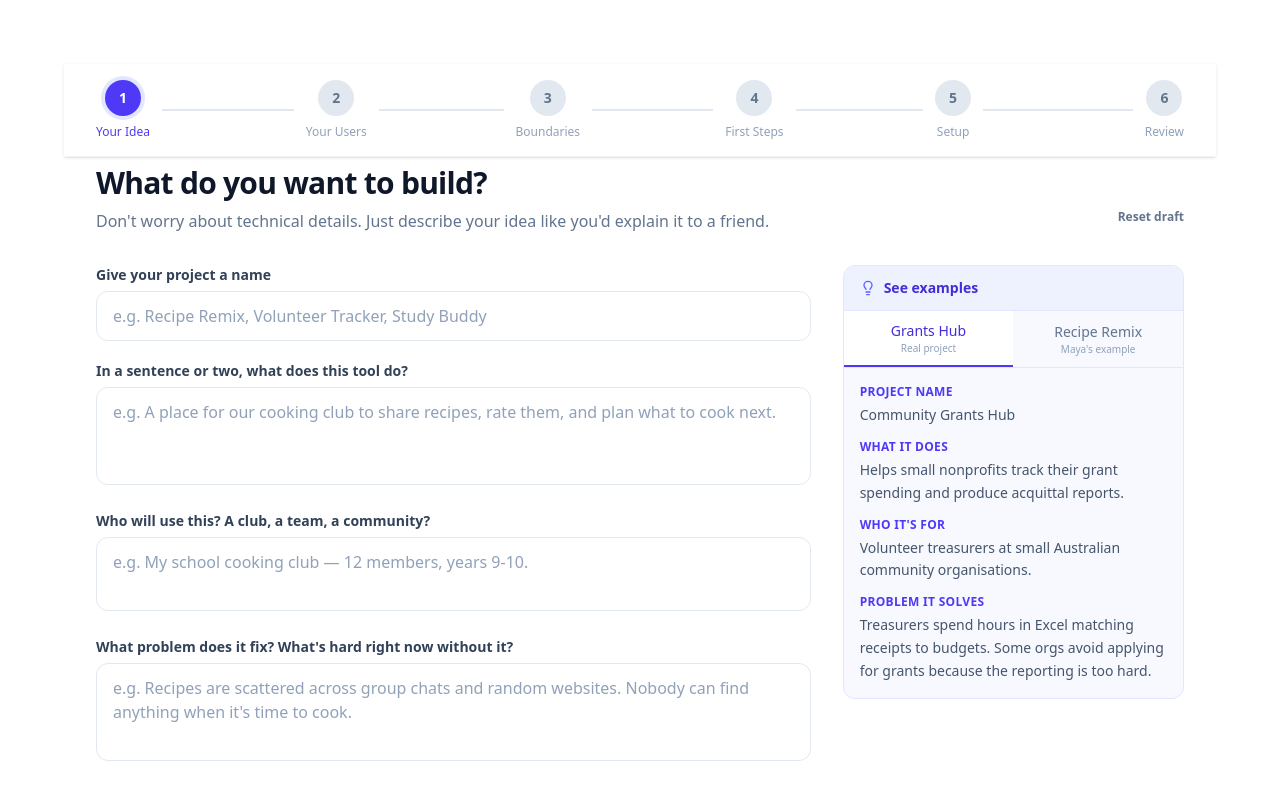
Test case: Widget › persists and resets a draft
Type "River Pantry" into the field labelled "Give your project a name" at (453, 316), box [96,291,811,341]
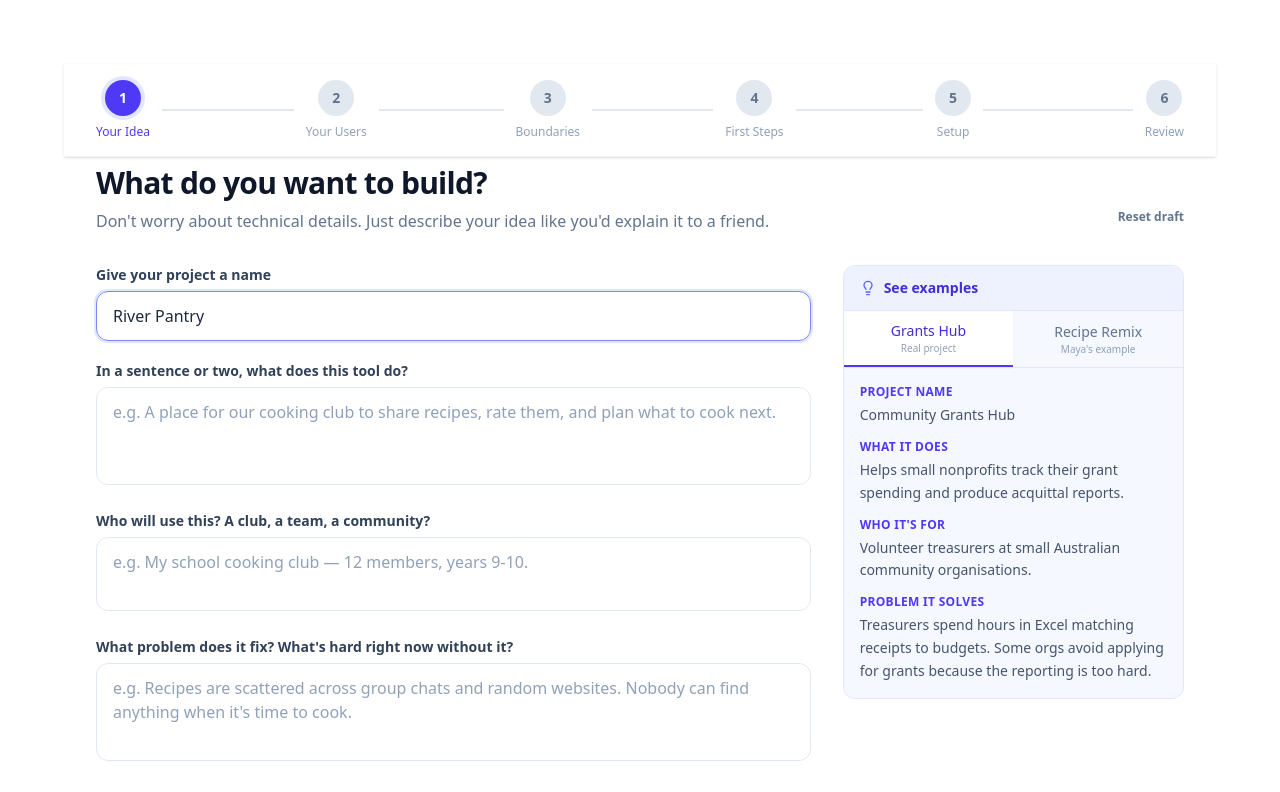
Click the button "Reset draft" at (1151, 217), box [1118,209,1184,225]
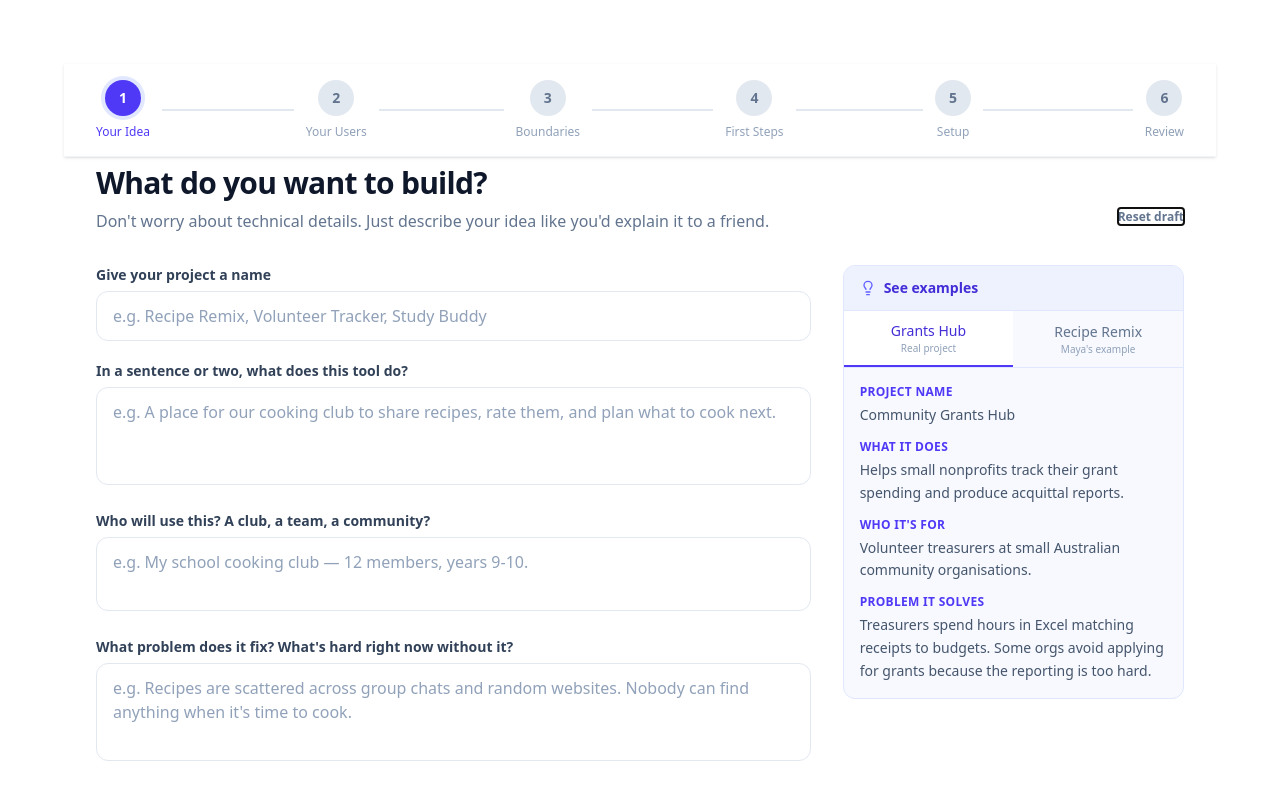
Now the field labelled "Give your project a name" is empty, box [96,291,811,341]
